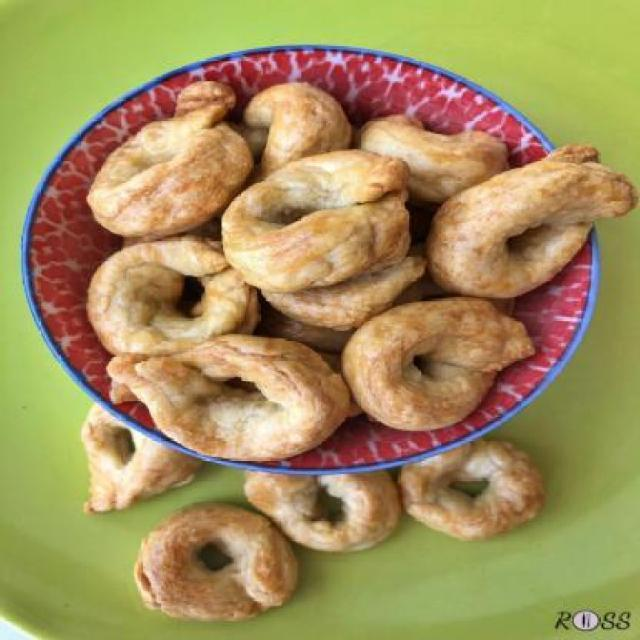Taralli: (94, 77, 626, 448), (115, 501, 308, 624), (239, 461, 399, 556), (405, 442, 550, 544)
